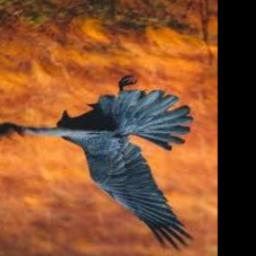Crow: (0, 77, 195, 254)
